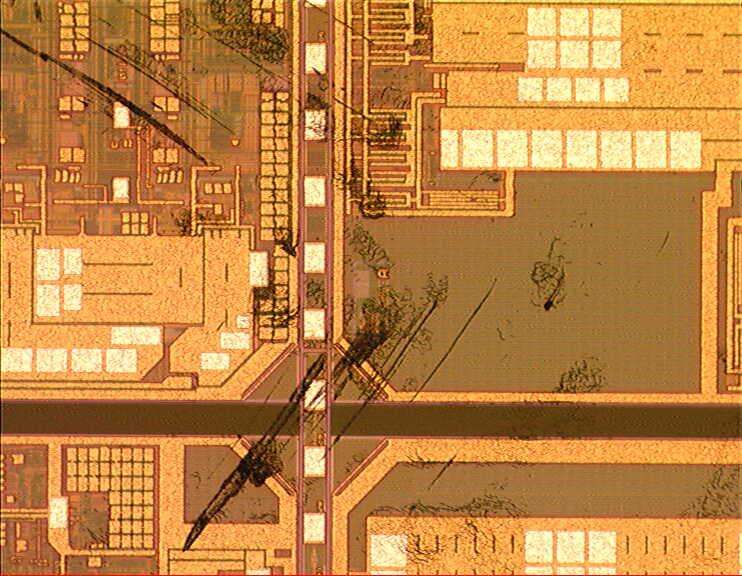SCRATCH: (1, 1, 659, 576)
